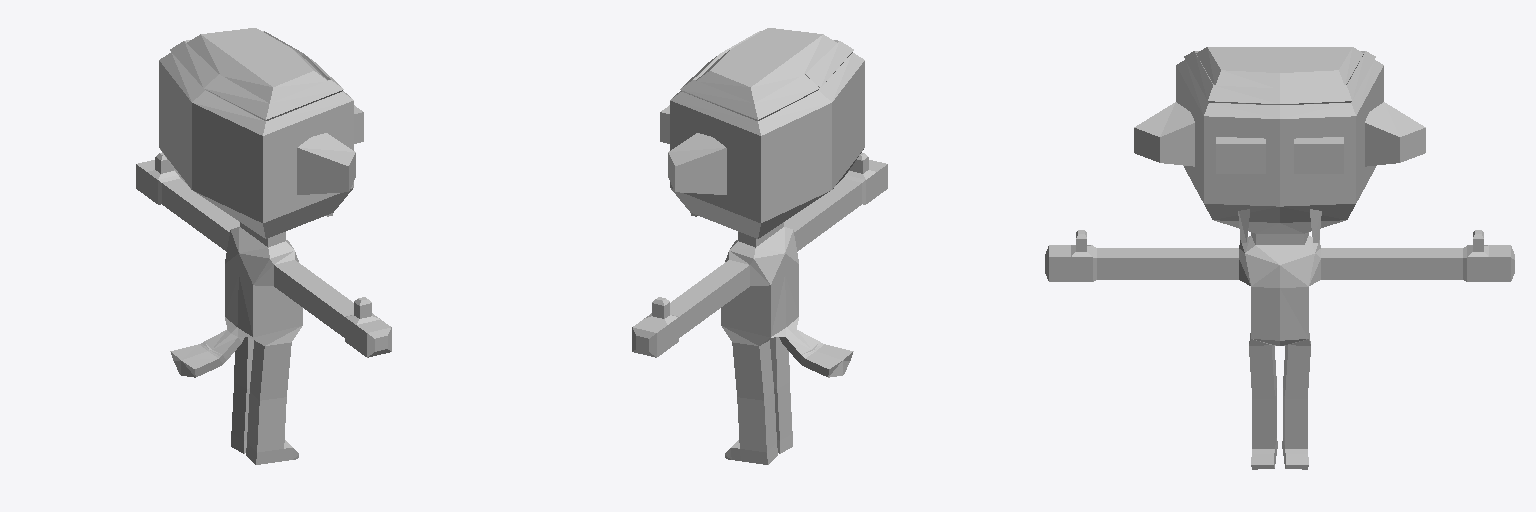
The model's file is Ludzik7-textured-1-partsA.obj.
The picture shows the model from 3 angles: view 1: azimuth 30°, elevation 25°; view 2: azimuth 150°, elevation 25°; view 3: azimuth 270°, elevation 25°; orthographic projection.
Visible parts, largest first — view 1: Tors_Cube, Reka.R_Cube.002, Reka.L_Cube.001; view 2: Tors_Cube, Reka.L_Cube.001, Reka.R_Cube.002; view 3: Tors_Cube, Reka.L_Cube.001, Reka.R_Cube.002.
Boxes of the visible parts, x1,y1,x2,y2 form: Tors_Cube: [159, 28, 363, 464]; Reka.R_Cube.002: [274, 260, 391, 357]; Reka.L_Cube.001: [136, 153, 239, 251]; Tors_Cube: [660, 28, 864, 464]; Reka.L_Cube.001: [632, 260, 749, 357]; Reka.R_Cube.002: [784, 153, 887, 251]; Tors_Cube: [1134, 47, 1425, 469]; Reka.L_Cube.001: [1321, 230, 1514, 281]; Reka.R_Cube.002: [1045, 230, 1238, 281].
Size of the model in its own units: 6.06 by 15.32 by 16.31.